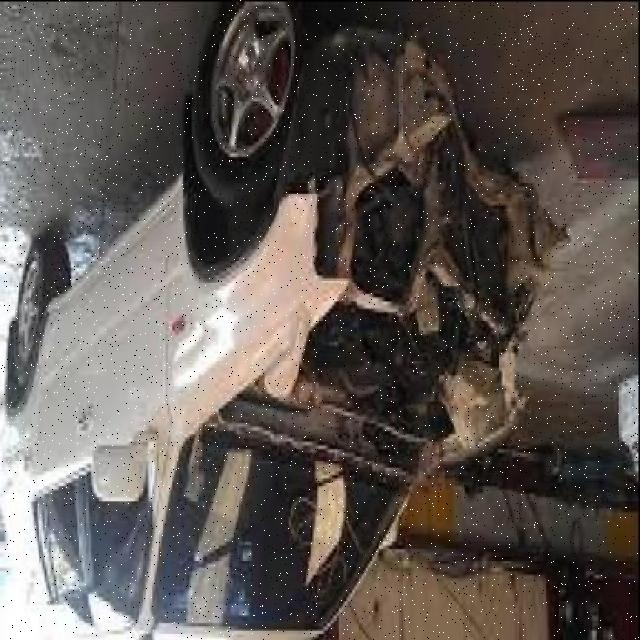damage: (241, 31, 564, 472)
